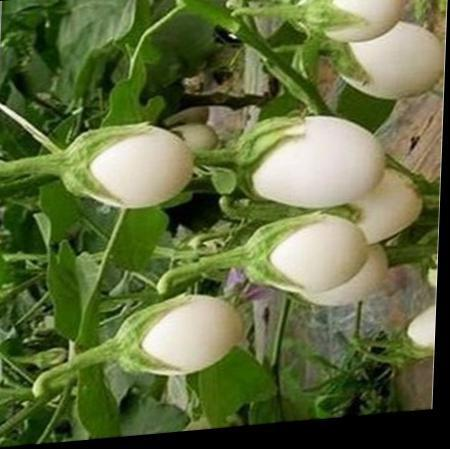eggplant: (205, 0, 445, 329), (78, 268, 250, 406), (42, 92, 225, 214)
